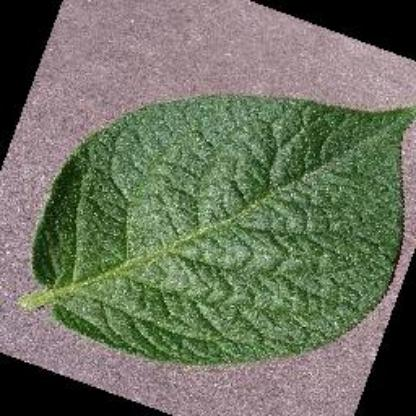Healthy-plant: (15, 93, 416, 368)
